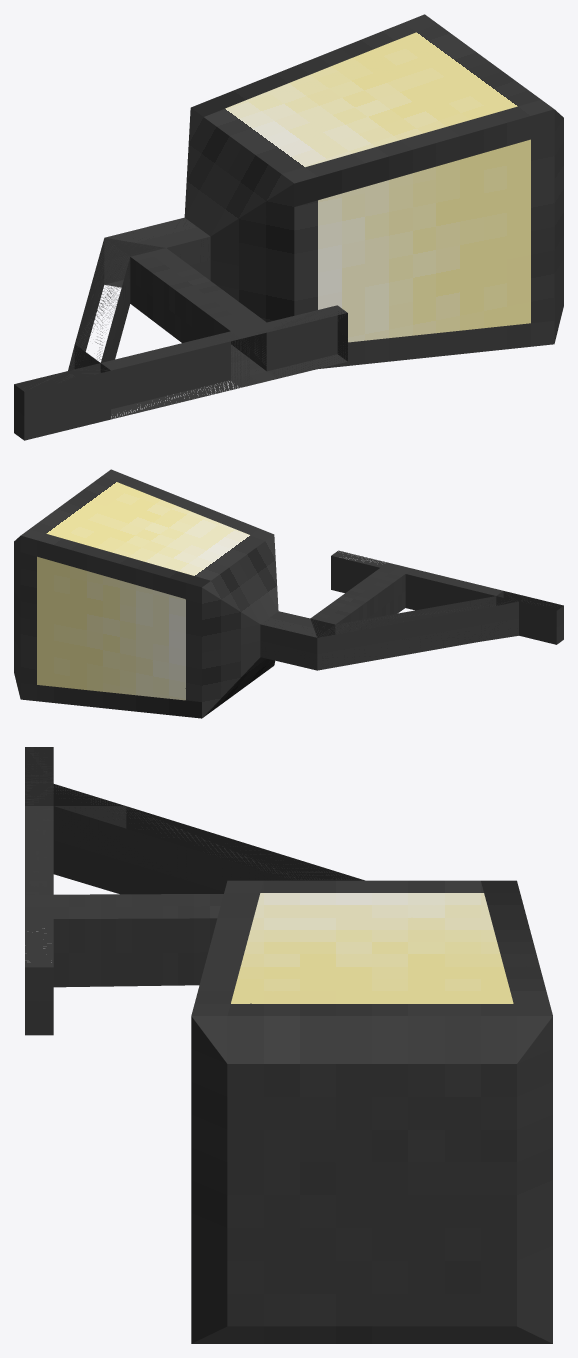
The model's file is StreetLightWall.obj.
3 views of the same model, one above another, from view 1: azimuth 30°, elevation 25°; view 2: azimuth 150°, elevation 25°; view 3: azimuth 270°, elevation 25° (orthographic). The views are drawn at different scales.
Visible parts, largest first — view 1: Structure_StreetLightWall_socket, Glass_StreetLightWall_socket.002; view 2: Structure_StreetLightWall_socket, Glass_StreetLightWall_socket.002; view 3: Structure_StreetLightWall_socket, Glass_StreetLightWall_socket.002.
Part boxes in pixels (x1,y1,x2,y2): Structure_StreetLightWall_socket: [14, 14, 563, 440]; Glass_StreetLightWall_socket.002: [204, 24, 554, 342]; Structure_StreetLightWall_socket: [14, 469, 563, 718]; Glass_StreetLightWall_socket.002: [20, 476, 264, 701]; Structure_StreetLightWall_socket: [25, 747, 552, 1343]; Glass_StreetLightWall_socket.002: [227, 880, 516, 1015].
Size of the model in its own units: 1.7 by 0.625 by 0.9125.
2 materials, 2 textured.
